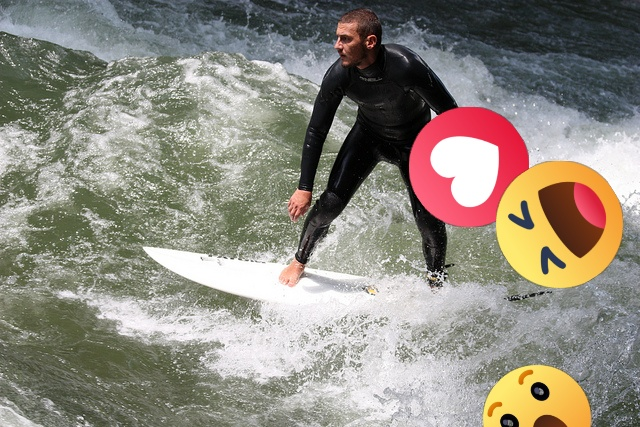haha: (496, 161, 623, 288)
love: (409, 107, 529, 227)
wow: (483, 365, 591, 427)
